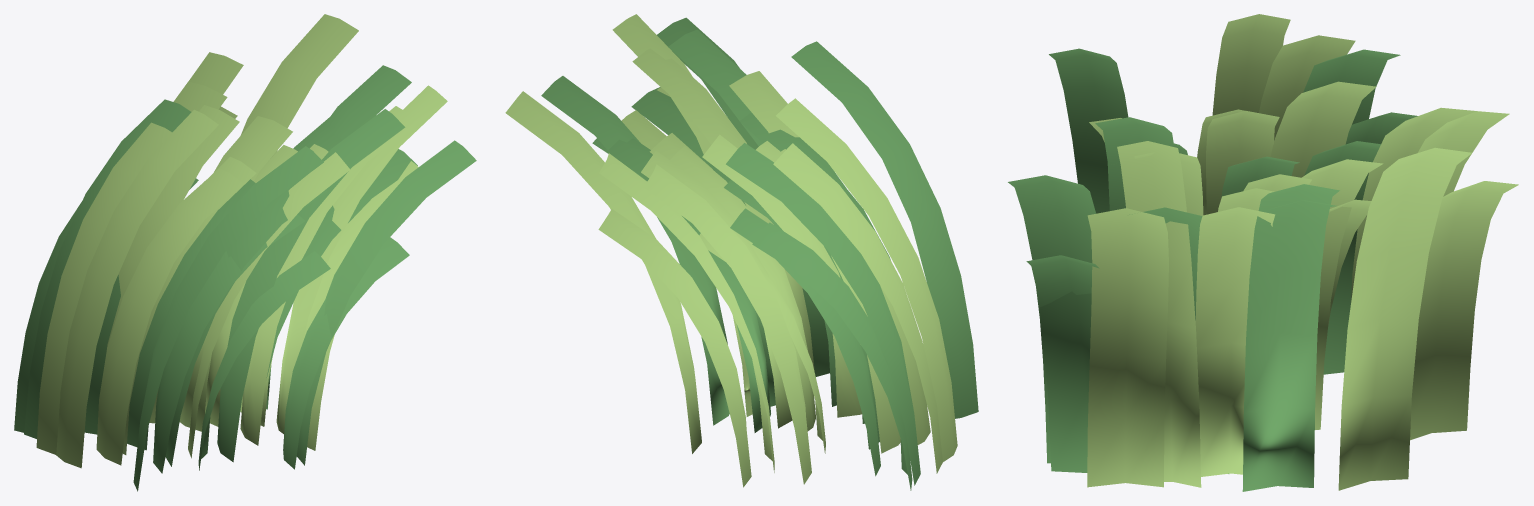
The model's file is prop_sea_grass_1.glb.
3 views of the same model, side by side, from view 1: azimuth 30°, elevation 25°; view 2: azimuth 150°, elevation 25°; view 3: azimuth 270°, elevation 25° (orthographic). The views are drawn at different scales.
Parts seen in each view (by area): view 1: sea_grass_1; view 2: sea_grass_1; view 3: sea_grass_1.
Boxes of the visible parts, x1,y1,x2,y2 form: sea_grass_1: (14,14,476,491); sea_grass_1: (505,14,978,490); sea_grass_1: (1008,14,1518,491).
Bounding box in the file's own units: 1.49 × 1.21 × 1.26.
